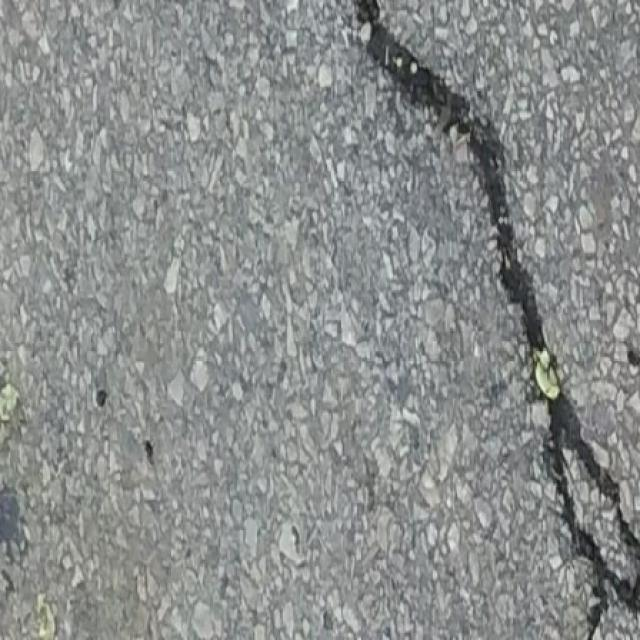Diagonal Crack: (335, 0, 640, 638)
